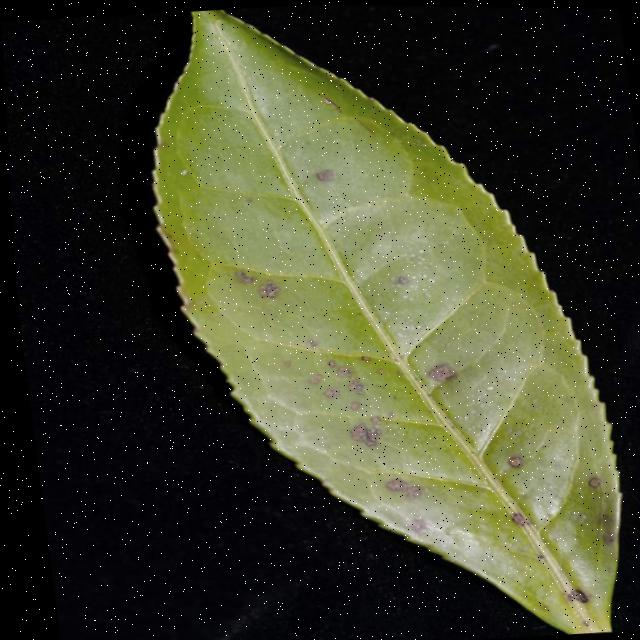Tea red rust: (228, 254, 584, 594)
